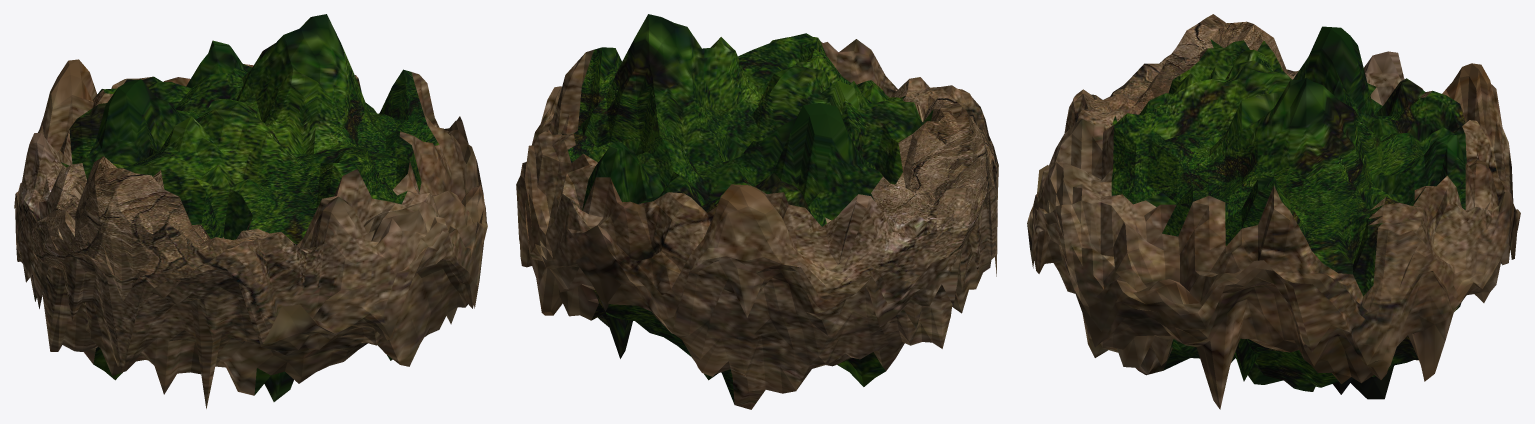
File: small-island.obj
The picture shows the model from 3 angles, left to right: view 1: azimuth 30°, elevation 25°; view 2: azimuth 150°, elevation 25°; view 3: azimuth 270°, elevation 25°; orthographic projection. The views are drawn at different scales.
Bounding box in the file's own units: 20 × 14.59 × 20.
